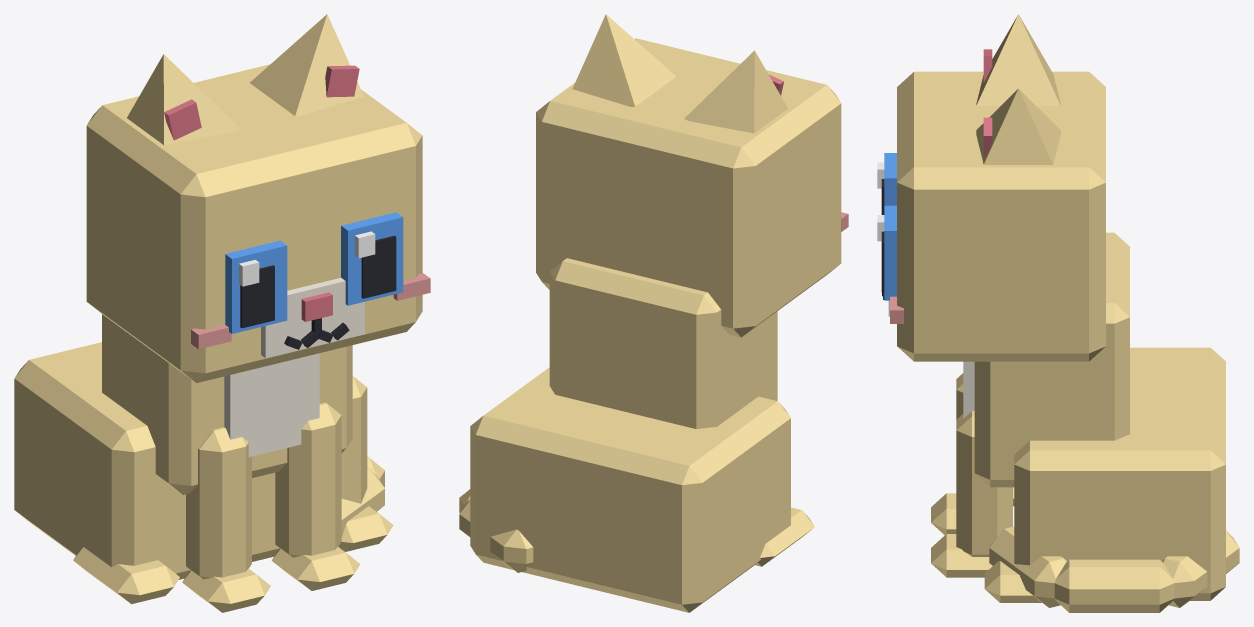
File: CatCafe_Cat_Butter_Sit.glb
3 renders of one model, left to right at view 1: azimuth 30°, elevation 25°; view 2: azimuth 150°, elevation 25°; view 3: azimuth 270°, elevation 25°, orthographic. The views are drawn at different scales.
Parts seen in each view (by area): view 1: CatCafe_Cat_Butter_Sit_Head, CatCafe_Cat_Butter_Sit_Body, CatCafe_Cat_Butter_Sit_LegF2, CatCafe_Cat_Butter_Sit_LegF1, CatCafe_Cat_Butter_Sit_EarL, CatCafe_Cat_Butter_Sit_EarR, CatCafe_Cat_Butter_Sit_Eye2, CatCafe_Cat_Butter_Sit_Eye1, CatCafe_Cat_Butter_Sit_Tail; view 2: CatCafe_Cat_Butter_Sit_Body, CatCafe_Cat_Butter_Sit_Head, CatCafe_Cat_Butter_Sit_EarL, CatCafe_Cat_Butter_Sit_EarR, CatCafe_Cat_Butter_Sit_Tail; view 3: CatCafe_Cat_Butter_Sit_Body, CatCafe_Cat_Butter_Sit_Head, CatCafe_Cat_Butter_Sit_Tail, CatCafe_Cat_Butter_Sit_LegF1, CatCafe_Cat_Butter_Sit_EarL, CatCafe_Cat_Butter_Sit_EarR, CatCafe_Cat_Butter_Sit_Eye1, CatCafe_Cat_Butter_Sit_LegF2, CatCafe_Cat_Butter_Sit_Eye2.
Part boxes in pixels (<box>): CatCafe_Cat_Butter_Sit_Head: <box>86,64,430,382</box>; CatCafe_Cat_Butter_Sit_Body: <box>14,314,393,604</box>; CatCafe_Cat_Butter_Sit_LegF2: <box>182,427,270,612</box>; CatCafe_Cat_Butter_Sit_LegF1: <box>271,402,360,590</box>; CatCafe_Cat_Butter_Sit_EarL: <box>250,14,363,116</box>; CatCafe_Cat_Butter_Sit_EarR: <box>127,54,240,145</box>; CatCafe_Cat_Butter_Sit_Eye2: <box>225,240,287,333</box>; CatCafe_Cat_Butter_Sit_Eye1: <box>341,212,403,305</box>; CatCafe_Cat_Butter_Sit_Tail: <box>341,456,384,536</box>; CatCafe_Cat_Butter_Sit_Body: <box>470,258,814,612</box>; CatCafe_Cat_Butter_Sit_Head: <box>536,38,848,337</box>; CatCafe_Cat_Butter_Sit_EarL: <box>572,14,676,106</box>; CatCafe_Cat_Butter_Sit_EarR: <box>684,50,787,133</box>; CatCafe_Cat_Butter_Sit_Tail: <box>459,489,533,572</box>; CatCafe_Cat_Butter_Sit_Body: <box>963,232,1225,602</box>; CatCafe_Cat_Butter_Sit_Head: <box>882,71,1105,361</box>; CatCafe_Cat_Butter_Sit_Tail: <box>989,526,1239,612</box>; CatCafe_Cat_Butter_Sit_LegF1: <box>931,411,1012,577</box>; CatCafe_Cat_Butter_Sit_EarL: <box>976,88,1060,164</box>; CatCafe_Cat_Butter_Sit_EarR: <box>976,14,1060,105</box>; CatCafe_Cat_Butter_Sit_Eye1: <box>877,205,896,300</box>; CatCafe_Cat_Butter_Sit_LegF2: <box>931,373,963,534</box>; CatCafe_Cat_Butter_Sit_Eye2: <box>877,153,896,214</box>.
Bounding box in the file's own units: 1.1 × 1.85 × 1.22.
Materials: 1 (1 with a texture image).
